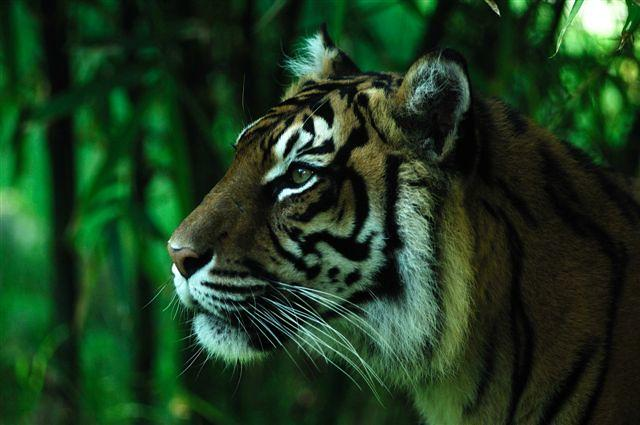tiger: (145, 23, 640, 425)
